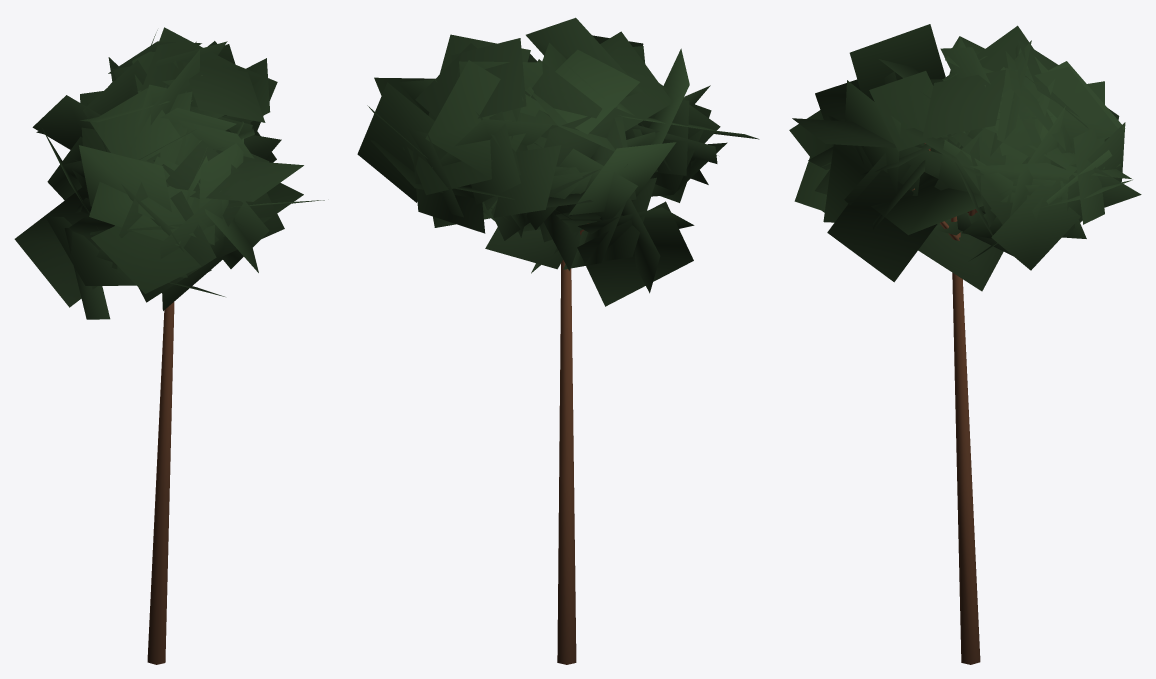
Rendered from SM_Sosna_1.glb.
The picture shows the model from 3 angles, left to right: view 1: azimuth 30°, elevation 25°; view 2: azimuth 150°, elevation 25°; view 3: azimuth 270°, elevation 25°; orthographic projection. The views are drawn at different scales.
Parts seen in each view (by area): view 1: SM_Sosna_1; view 2: SM_Sosna_1; view 3: SM_Sosna_1.
Boxes of the visible parts, x1,y1,x2,y2 form: SM_Sosna_1: [14, 27, 324, 664]; SM_Sosna_1: [357, 17, 759, 664]; SM_Sosna_1: [789, 24, 1141, 664].
Bounding box in the file's own units: 8.27 × 18.23 × 9.06.
